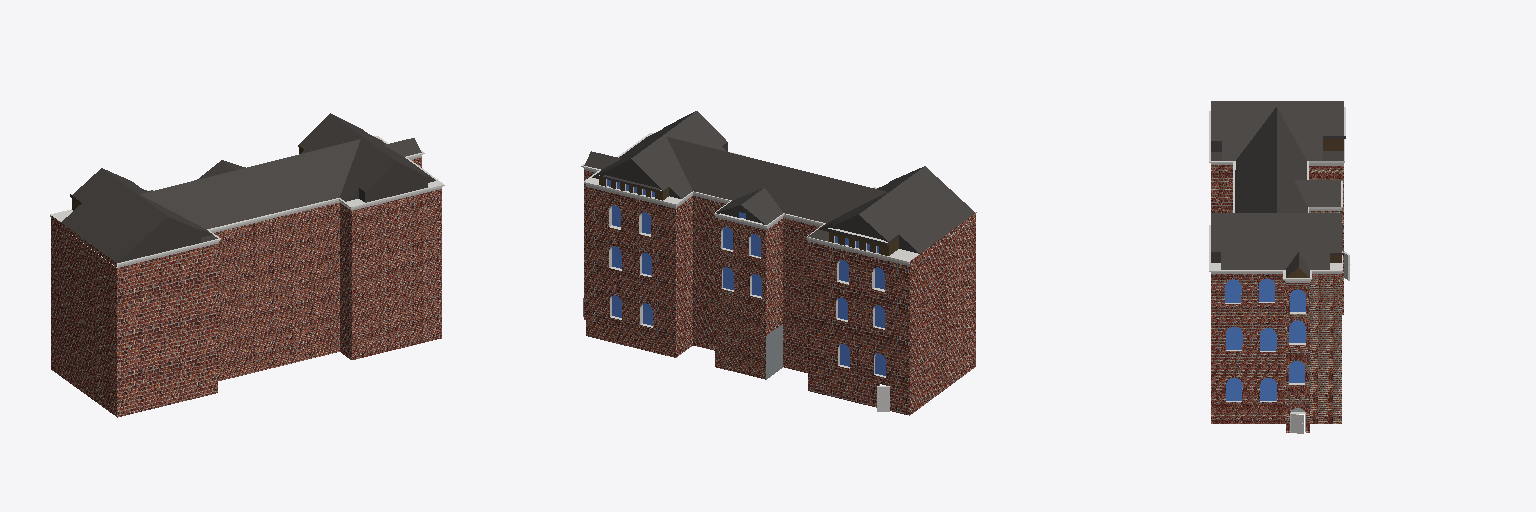
3 renders of one model, left to right at view 1: azimuth 30°, elevation 25°; view 2: azimuth 150°, elevation 25°; view 3: azimuth 270°, elevation 25°, orthographic.
Parts seen in each view (by area): view 1: Mesh1 Model; view 2: Mesh1 Model; view 3: Mesh1 Model.
Boxes of the visible parts, x1=… form: Mesh1 Model: x1=50, y1=113, x2=444, y2=417; Mesh1 Model: x1=581, y1=111, x2=976, y2=415; Mesh1 Model: x1=1209, y1=101, x2=1345, y2=432.
Size of the model in its own units: 51.09 by 26.65 by 18.13.
7 materials, 1 textured.